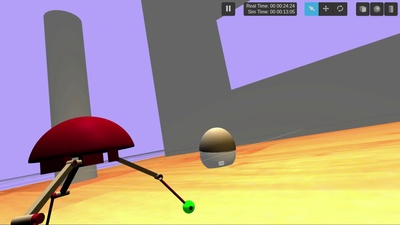mira_robot: (199, 127, 236, 169)
